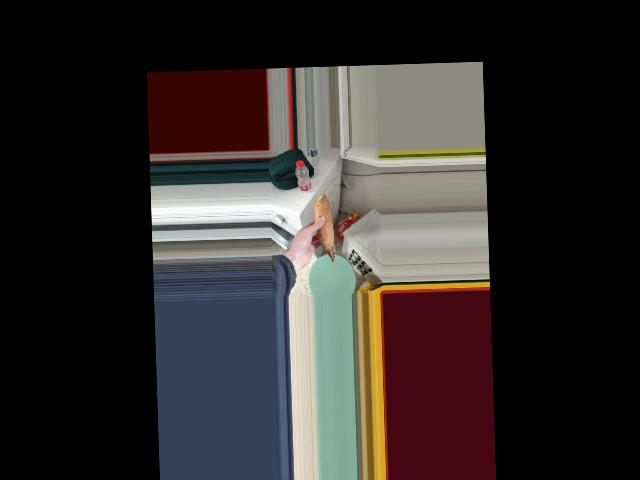sweet_potato: (314, 198, 335, 264)
